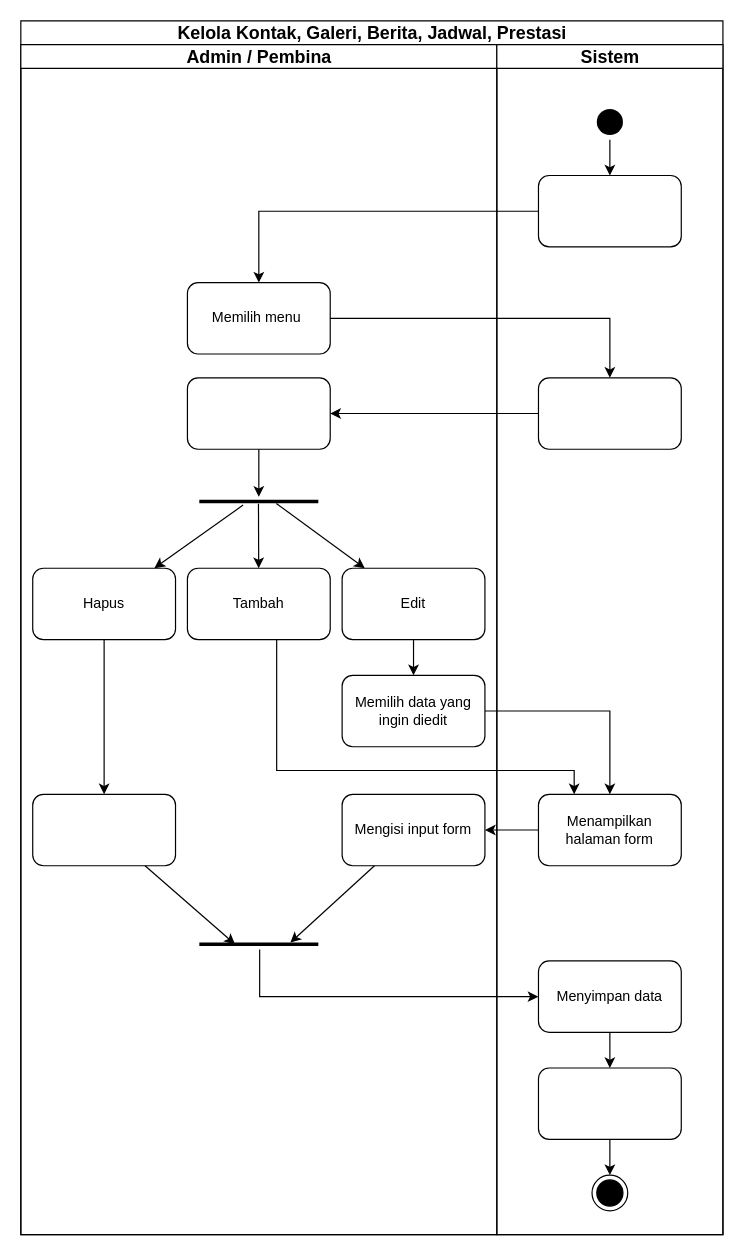
Some shapes in this 744 by 1255 pixel diagram are drawn without their labels. The shapes that lost their labels are listed below. From the top down, each one's centre as x and y in pixels, then its label:
pixel 609 210: Dashboard
pixel 258 413: Memilih aksi
pixel 609 413: Menampilkan halaman berisi list data
pixel 104 829: Memilih data yang ingin dihapus
pixel 609 1103: Menampilkan halaman berisi list data baru
